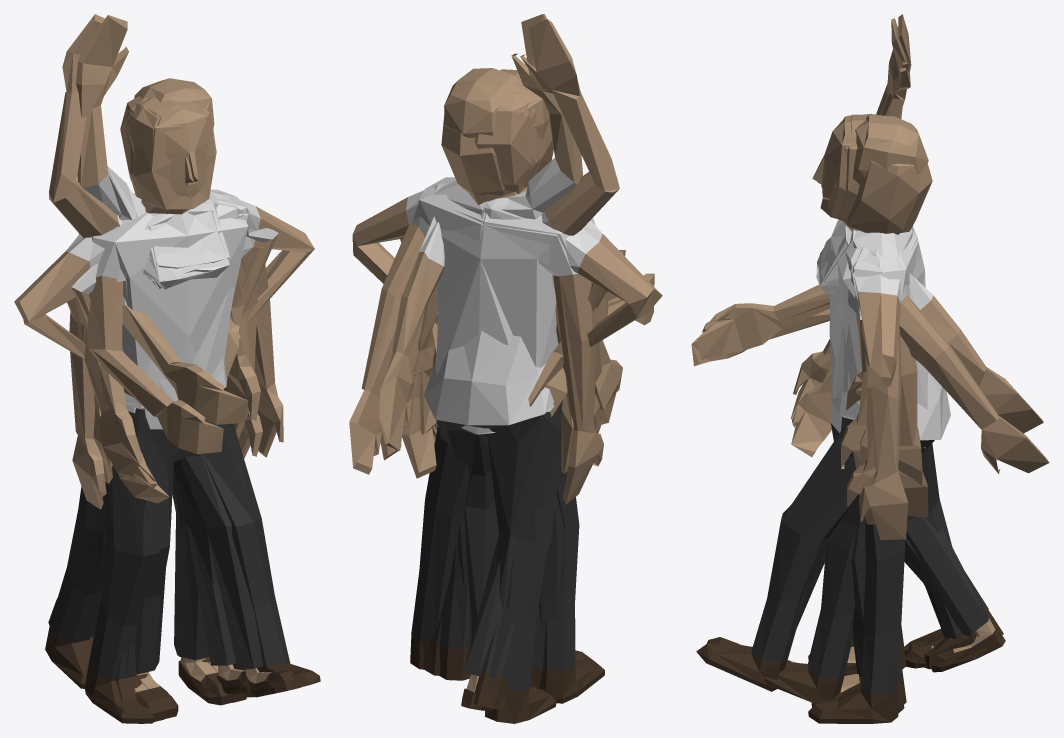
The model's file is people.glb.
The picture shows the model from 3 angles, left to right: view 1: azimuth 30°, elevation 25°; view 2: azimuth 150°, elevation 25°; view 3: azimuth 270°, elevation 25°; orthographic projection. The views are drawn at different scales.
Visible parts, largest first — view 1: Male_Running, Male_Standing_Hips, Female_Running, Male_Standing_Waving, Female_Standing, Female_Standing_Hips, Woman_Standing_Waving, Male_Walking, Female_Walking, Male_Standing; view 2: Male_Walking, Female_Walking, Male_Standing_Waving, Male_Standing, Male_Standing_Hips, Woman_Standing_Waving, Female_Running, Male_Running, Female_Standing_Hips, Female_Standing; view 3: Male_Running, Male_Standing_Waving, Female_Running, Male_Walking, Woman_Standing_Waving, Male_Standing_Hips, Female_Walking, Male_Standing, Female_Standing_Hips, Female_Standing.
Boxes of the visible parts, box(x1,y1,x2,y2) form: Male_Running: box(48, 112, 320, 689); Male_Standing_Hips: box(14, 110, 314, 723); Female_Running: box(96, 98, 300, 697); Male_Standing_Waving: box(49, 14, 283, 723); Female_Standing: box(93, 97, 260, 718); Female_Standing_Hips: box(67, 103, 278, 704); Woman_Standing_Waving: box(76, 15, 246, 721); Male_Walking: box(45, 107, 245, 688); Female_Walking: box(88, 104, 251, 694); Male_Standing: box(69, 96, 262, 680); Male_Walking: box(402, 187, 601, 723); Female_Walking: box(410, 197, 622, 719); Male_Standing_Waving: box(380, 19, 619, 669); Male_Standing: box(412, 92, 603, 688); Male_Standing_Hips: box(352, 100, 662, 703); Woman_Standing_Waving: box(419, 14, 585, 660); Female_Running: box(379, 82, 625, 711); Male_Running: box(349, 120, 654, 709); Female_Standing_Hips: box(400, 69, 606, 640); Female_Standing: box(429, 71, 599, 473); Male_Running: box(691, 120, 1049, 691); Male_Standing_Waving: box(808, 14, 932, 723); Female_Running: box(697, 113, 1043, 672); Male_Walking: box(764, 143, 944, 703); Woman_Standing_Waving: box(811, 18, 928, 705); Male_Standing_Hips: box(812, 144, 904, 713); Female_Walking: box(786, 137, 963, 668); Male_Standing: box(847, 233, 920, 704); Female_Standing_Hips: box(812, 116, 878, 680); Female_Standing: box(816, 114, 878, 680).
Bounding box in the file's own units: 0.9088 × 2 × 1.01.
